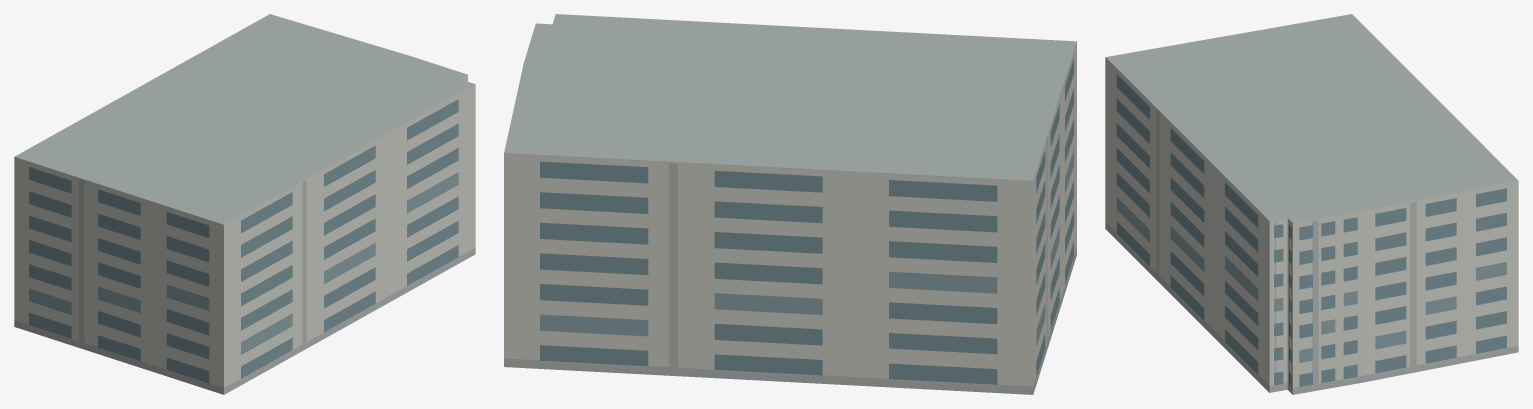
Rendered from survey-upis-33011598.glb.
The picture shows the model from 3 angles, left to right: view 1: azimuth 30°, elevation 25°; view 2: azimuth 150°, elevation 25°; view 3: azimuth 270°, elevation 25°; orthographic projection. The views are drawn at different scales.
Visible parts, largest first — view 1: survey-upis-33011598.tmp; view 2: survey-upis-33011598.tmp; view 3: survey-upis-33011598.tmp.
Boxes of the visible parts, x1,y1,x2,y2 form: survey-upis-33011598.tmp: (14,14,475,394); survey-upis-33011598.tmp: (504,14,1076,394); survey-upis-33011598.tmp: (1105,14,1518,394).
Size of the model in its own units: 80.84 by 30.96 by 67.46.
